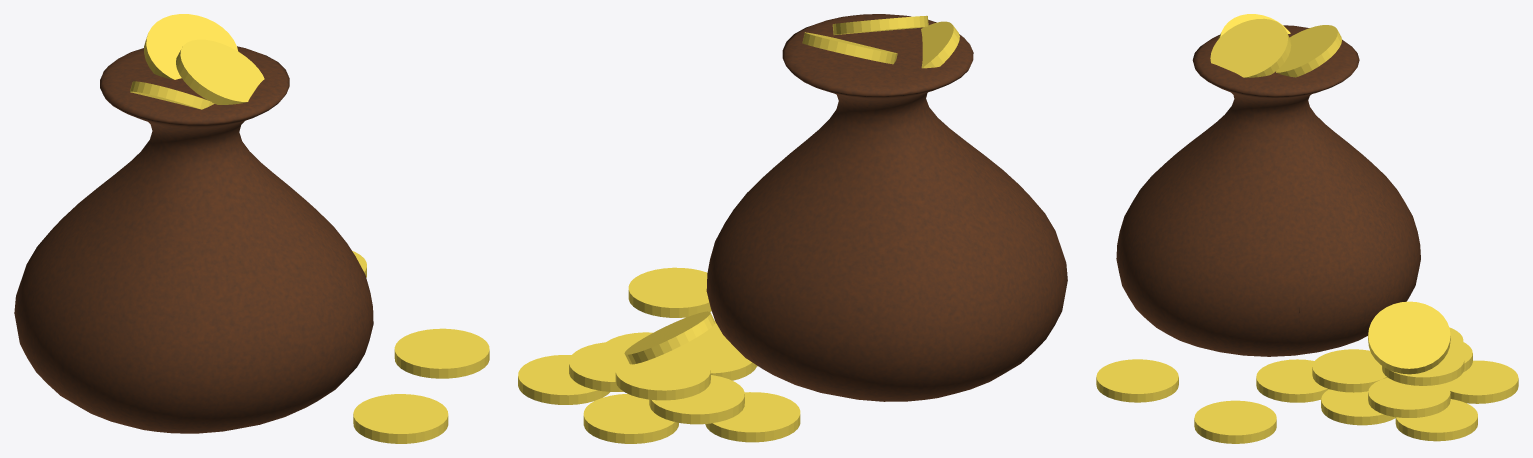
Rendered from CoinPouch_PuzzleItem.fbx.
3 views of the same model, side by side, from view 1: azimuth 30°, elevation 25°; view 2: azimuth 150°, elevation 25°; view 3: azimuth 270°, elevation 25° (orthographic). The views are drawn at different scales.
Visible parts, largest first — view 1: Cube, Cylinder.013; view 2: Cube, Cylinder.013; view 3: Cube, Cylinder.013.
Boxes of the visible parts, x1=… form: Cube: x1=14, y1=46, x2=373, y2=433; Cylinder.013: x1=130, y1=14, x2=489, y2=443; Cube: x1=706, y1=14, x2=1067, y2=401; Cylinder.013: x1=518, y1=15, x2=959, y2=443; Cube: x1=1116, y1=25, x2=1420, y2=356; Cylinder.013: x1=1096, y1=14, x2=1518, y2=443.
Size of the model in its own units: 282 by 225 by 281.
2 materials, 1 textured.
